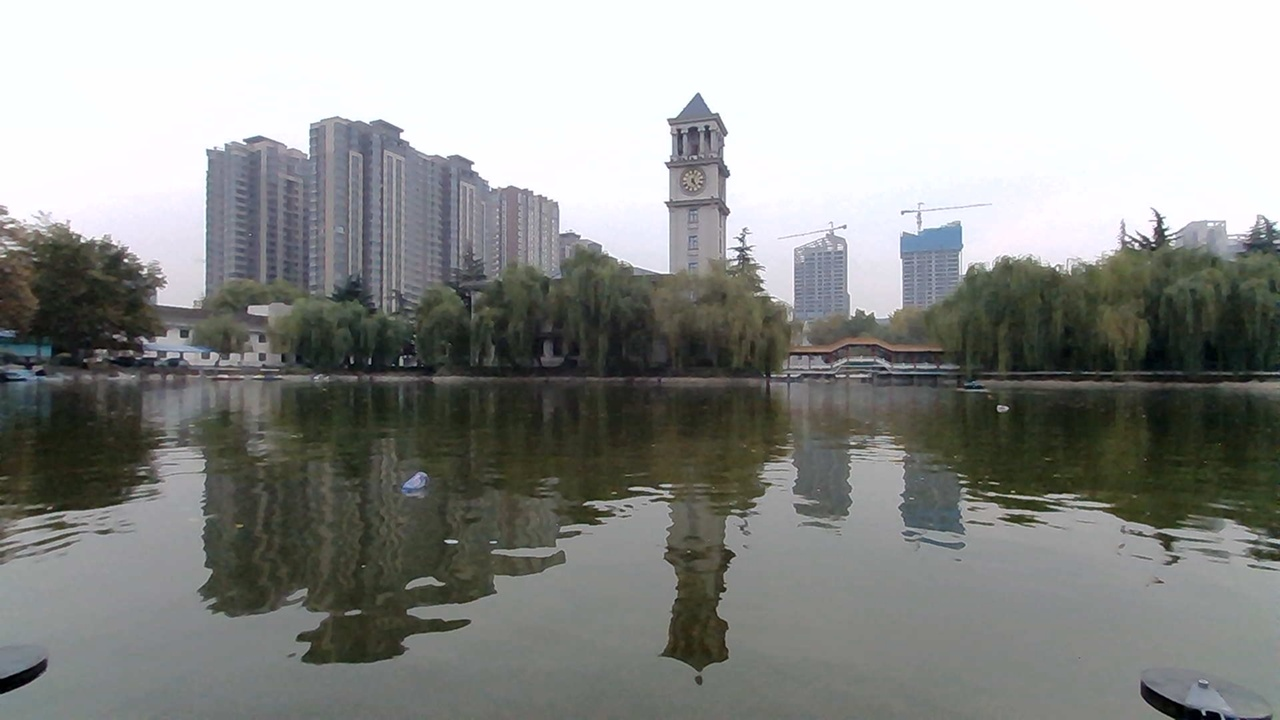bottle: (406, 457, 484, 504), (969, 392, 1026, 420)
